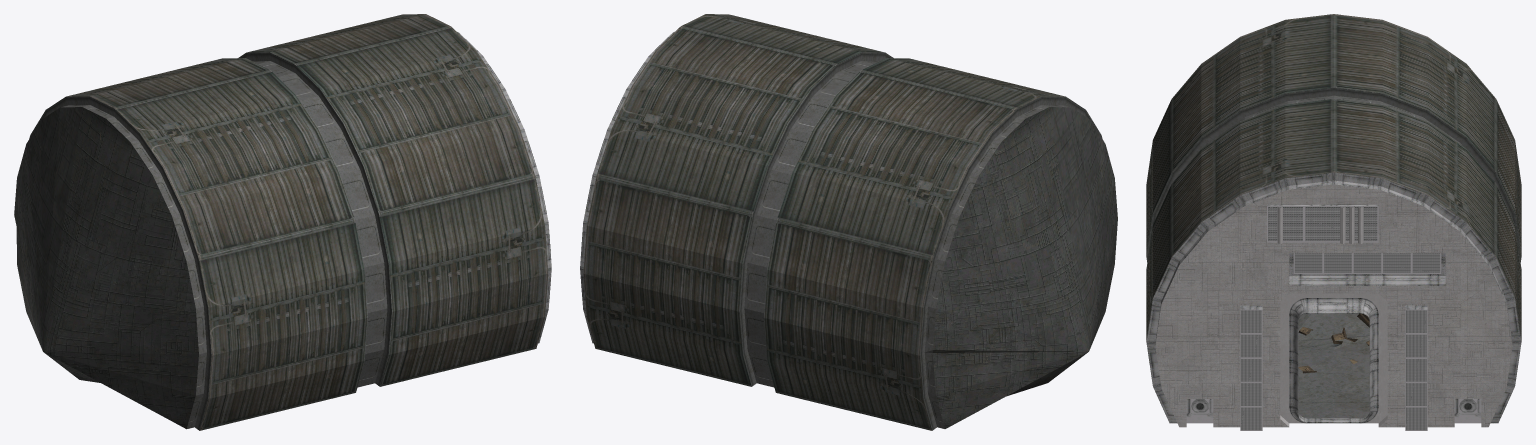
File: thm_spc_corvette_dungeon_r1_airlock1_mesh_r1.fbx
The picture shows the model from 3 angles, left to right: view 1: azimuth 30°, elevation 25°; view 2: azimuth 150°, elevation 25°; view 3: azimuth 270°, elevation 25°; orthographic projection. The views are drawn at different scales.
Visible parts, largest first — view 1: mesh_node; view 2: mesh_node; view 3: mesh_node.
Boxes of the visible parts, bbox=[...] form: mesh_node: bbox=[14, 14, 551, 430]; mesh_node: bbox=[580, 14, 1117, 430]; mesh_node: bbox=[1146, 14, 1521, 430].
Bounding box in the file's own units: 10.58 × 6.39 × 8.4.
